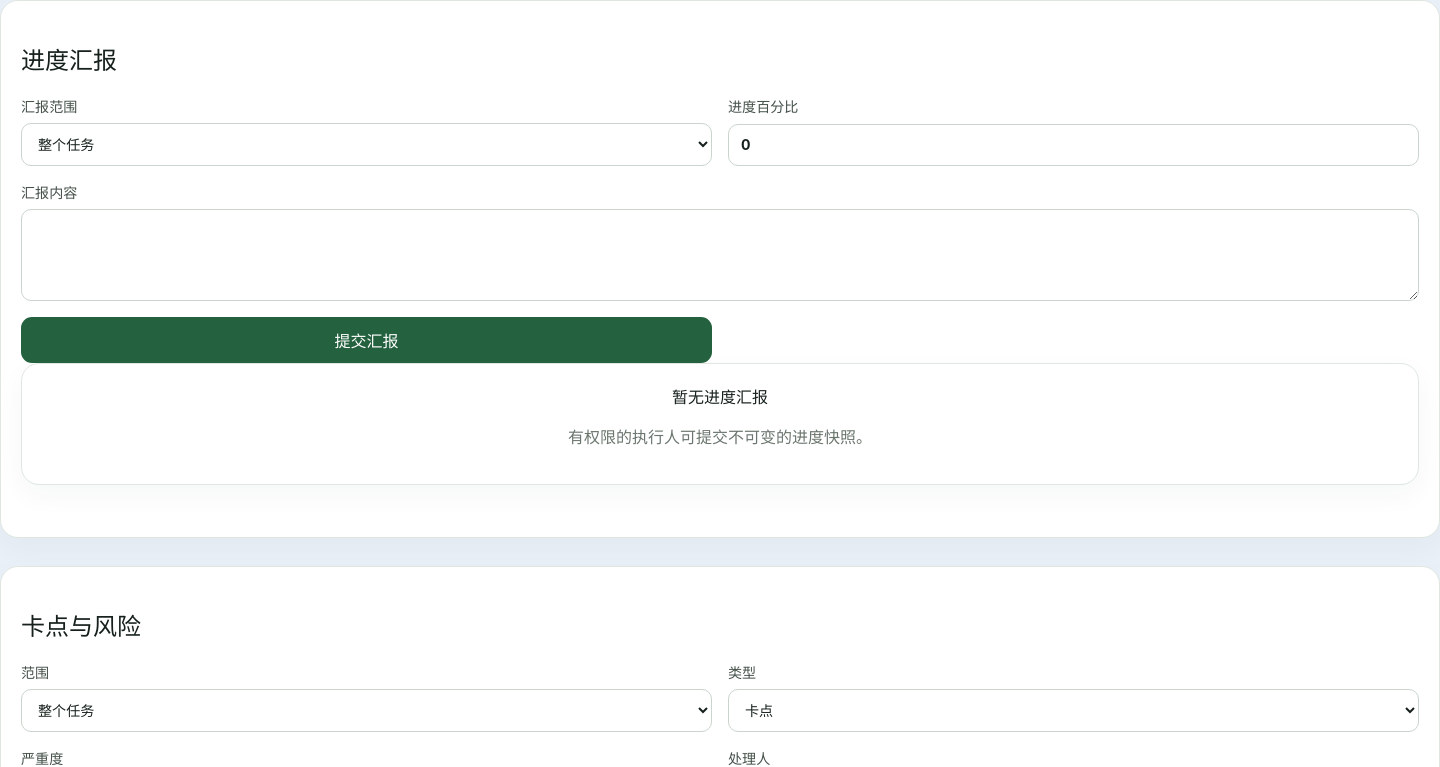
Test case: ProgressIssuesPanel › submits a server-versioned task progress report
Replace the text in the number field labelled "进度百分比" with "35" at (1074,145), box [728, 124, 1419, 166]
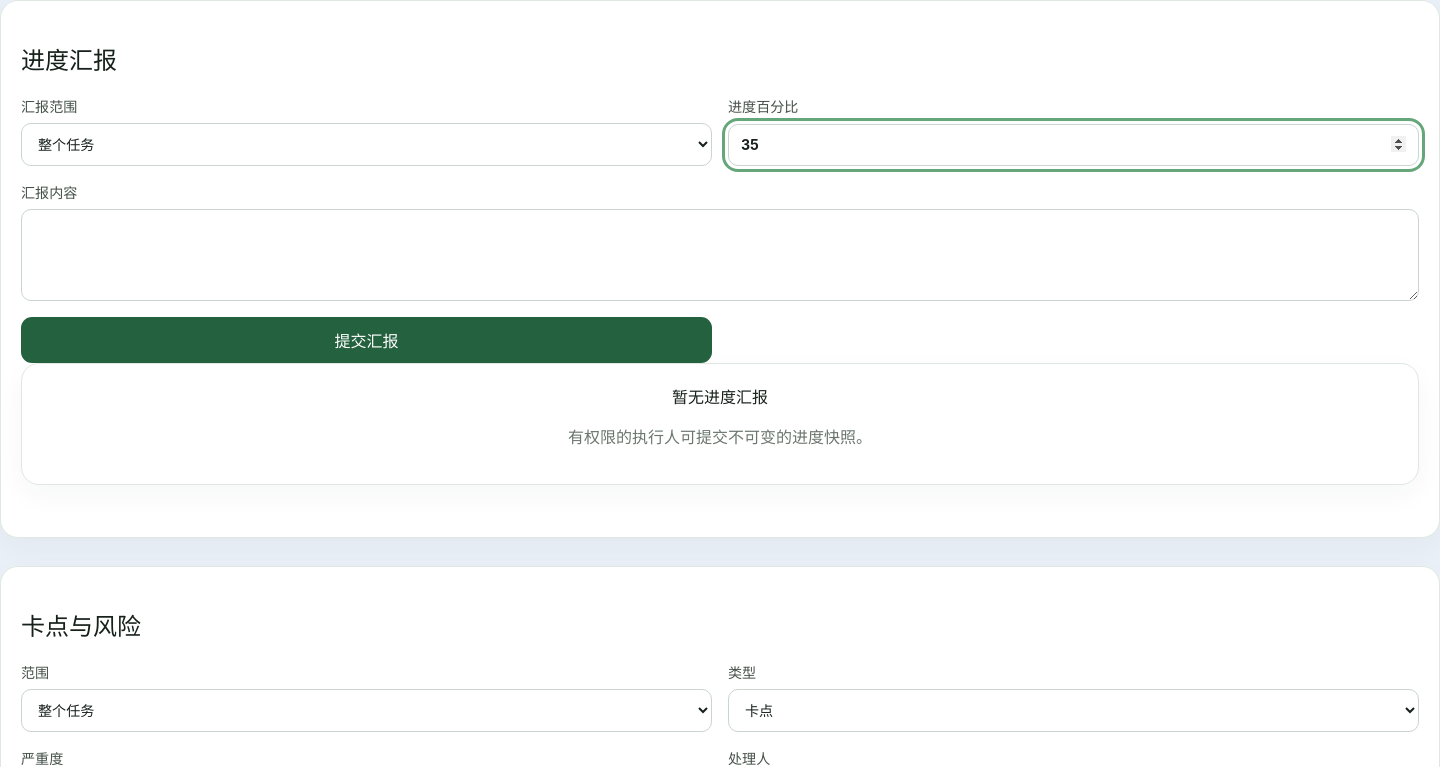
Type "完成接口联调" into the text box labelled "汇报内容" at (720,255), box [21, 209, 1419, 301]
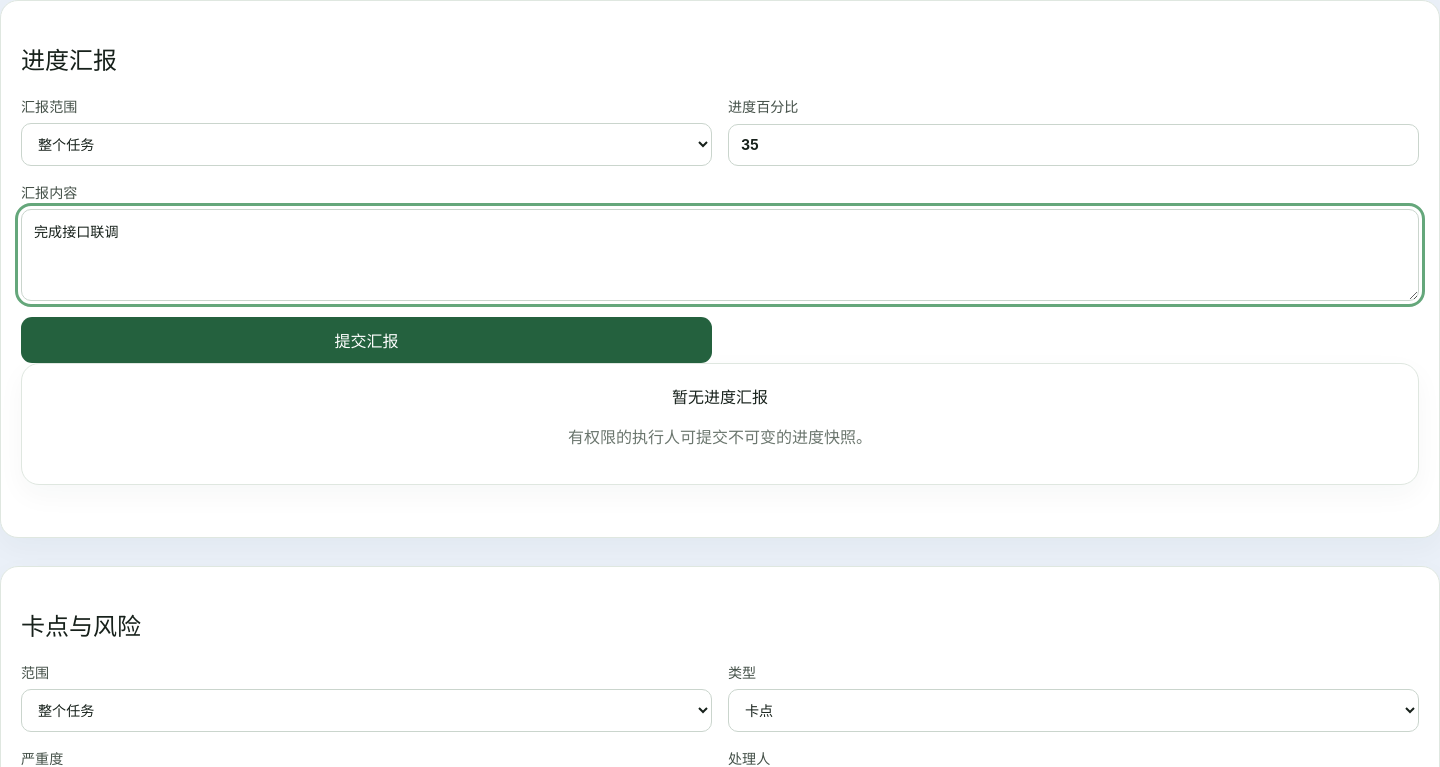
Click the button "提交汇报" at (366,340), box [21, 317, 712, 363]
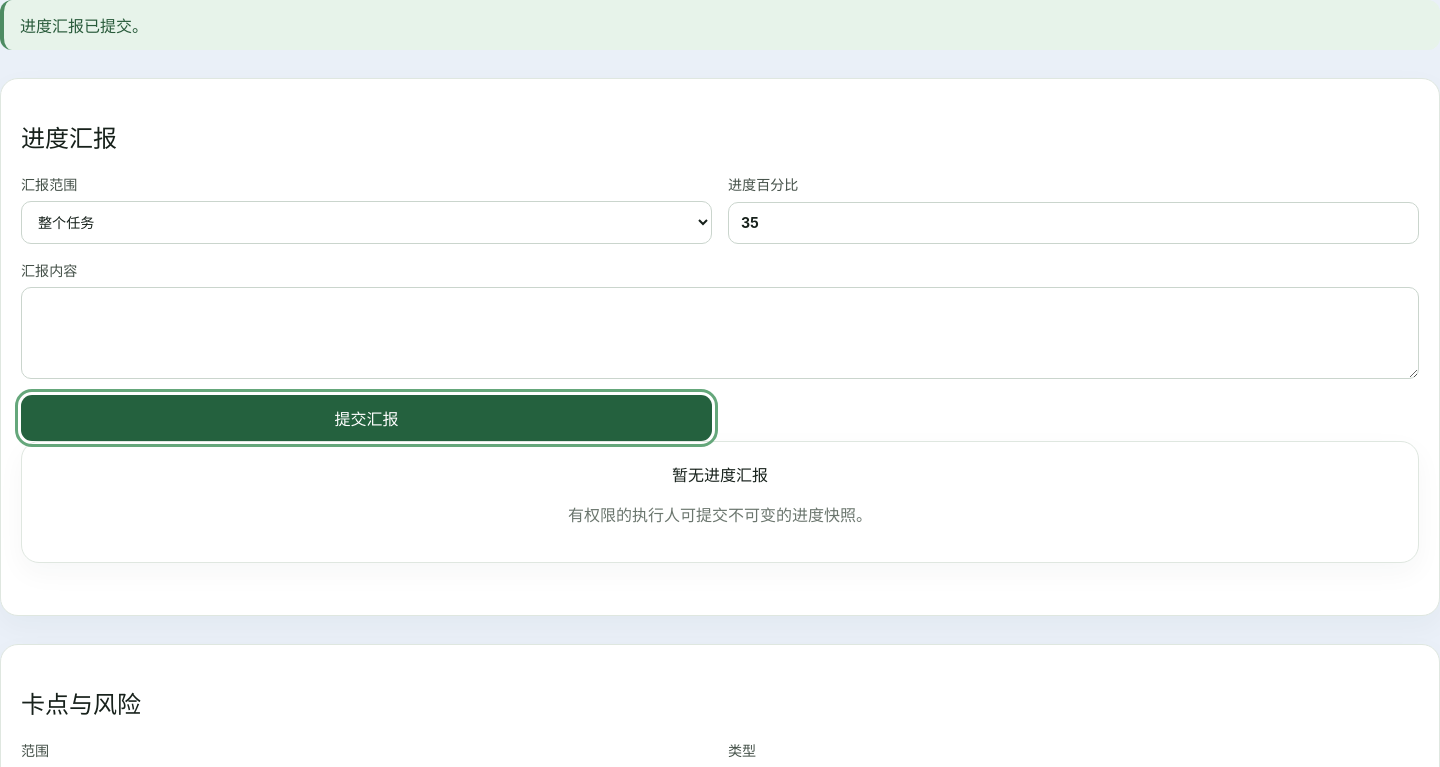
Now the text "进度汇报已提交。" is shown, box [0, 0, 1439, 50]
